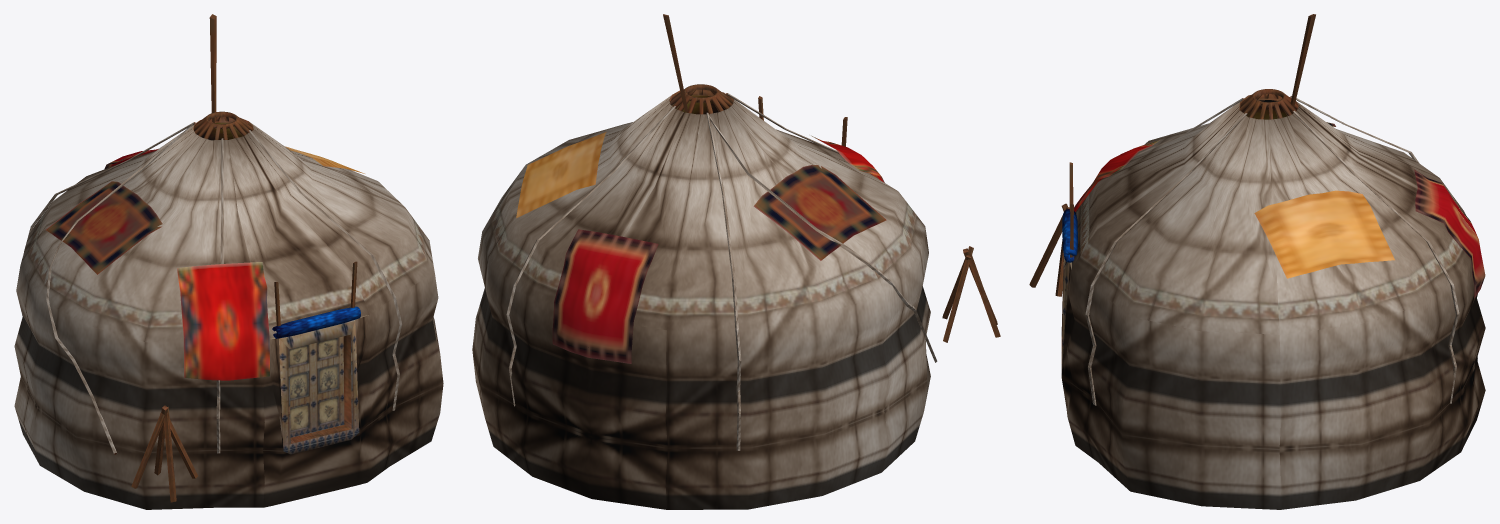
The model's file is house_1.dae.
3 renders of one model, left to right at view 1: azimuth 30°, elevation 25°; view 2: azimuth 150°, elevation 25°; view 3: azimuth 270°, elevation 25°, orthographic. The views are drawn at different scales.
Visible parts, largest first — view 1: house_1; view 2: house_1; view 3: house_1.
Boxes of the visible parts, x1=… form: house_1: x1=14, y1=14, x2=443, y2=509; house_1: x1=472, y1=14, x2=1000, y2=509; house_1: x1=1029, y1=14, x2=1485, y2=509.
Size of the model in its own units: 10.76 by 10.96 by 10.89.
